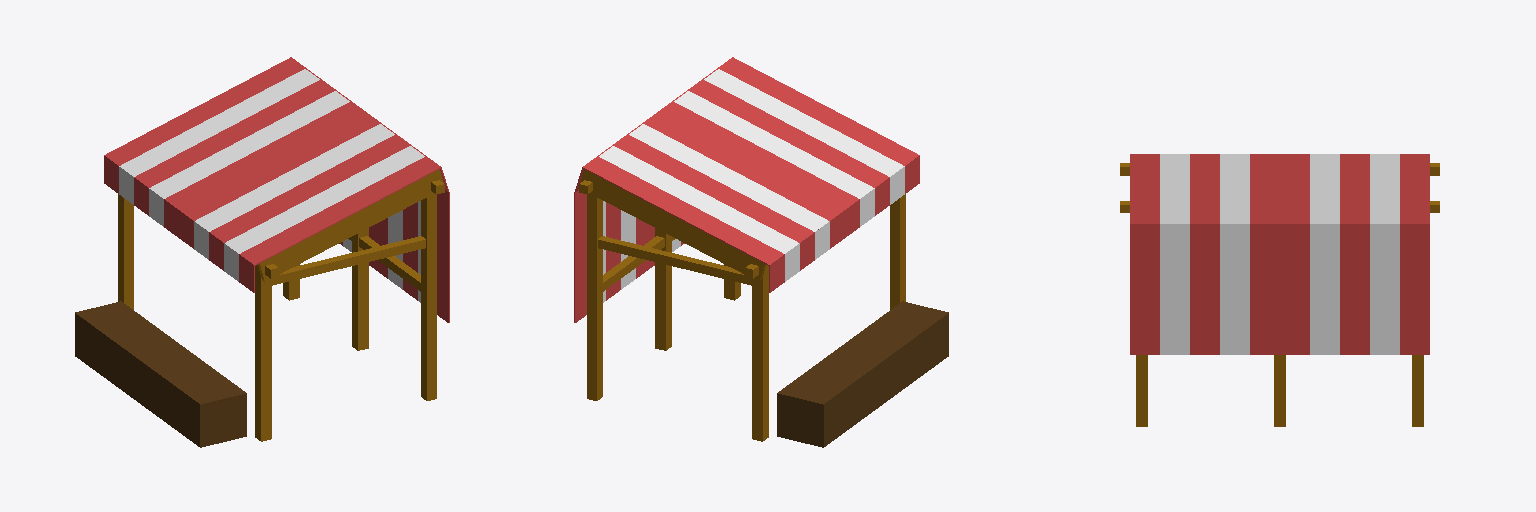
3 views of the same model, side by side, from view 1: azimuth 30°, elevation 25°; view 2: azimuth 150°, elevation 25°; view 3: azimuth 270°, elevation 25° (orthographic).
Visible parts, largest first — view 1: top, cube, back, front, side; view 2: top, cube, back, front, side; view 3: back, top.
Boxes of the visible parts, x1=… form: top: x1=104, y1=58, x2=443, y2=281; cube: x1=75, y1=301, x2=246, y2=447; back: x1=283, y1=57, x2=449, y2=400; front: x1=104, y1=156, x2=278, y2=441; side: x1=272, y1=236, x2=425, y2=285; top: x1=580, y1=58, x2=919, y2=281; cube: x1=777, y1=301, x2=948, y2=447; back: x1=574, y1=57, x2=740, y2=400; front: x1=745, y1=156, x2=919, y2=441; side: x1=598, y1=236, x2=751, y2=285; back: x1=1120, y1=193, x2=1439, y2=426; top: x1=1130, y1=154, x2=1429, y2=192.
Bounding box in the file's own units: 2.86 × 2.7 × 3.35.
3 materials, 3 textured.